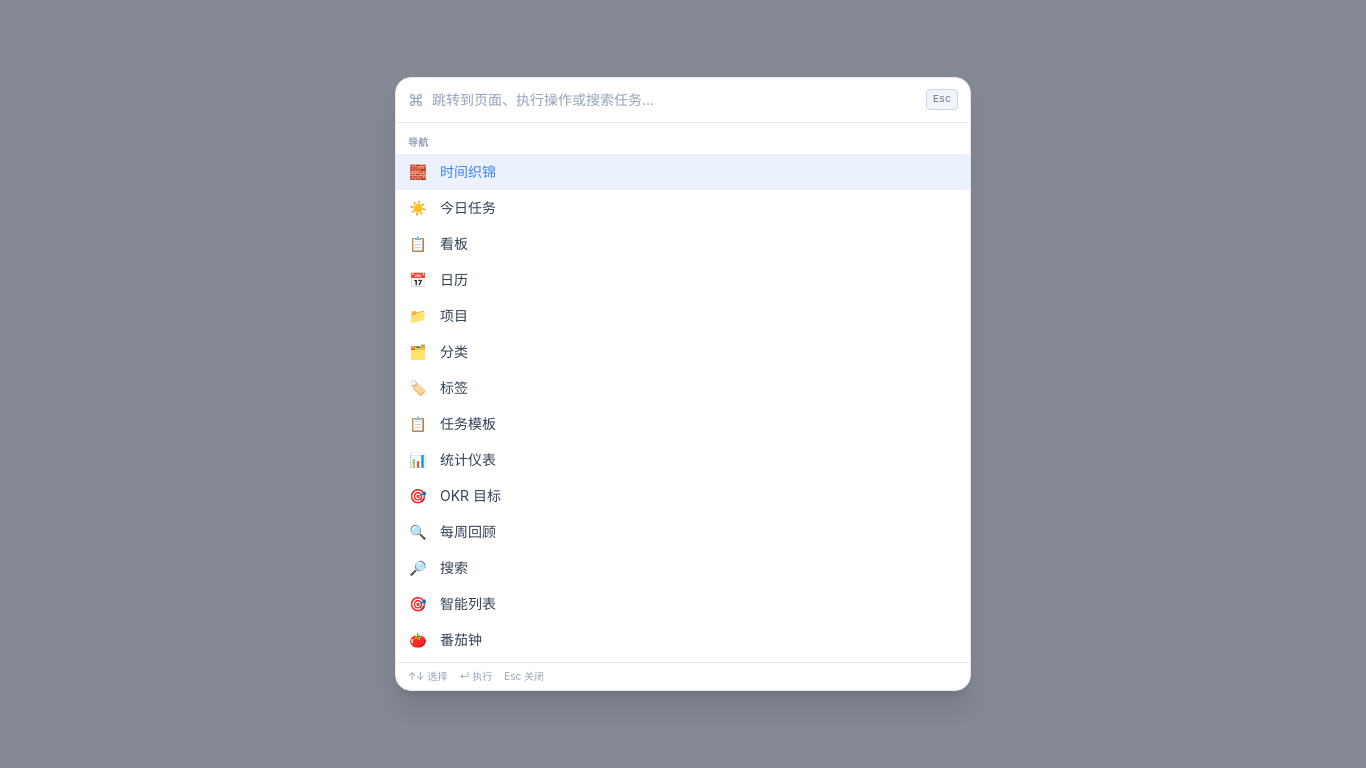
Test: CommandPalette › 关键词匹配:输入 lock 命中"锁定应用"
Type "lock" into the field named "命令搜索" at (675, 100), box [432,78,918,122]
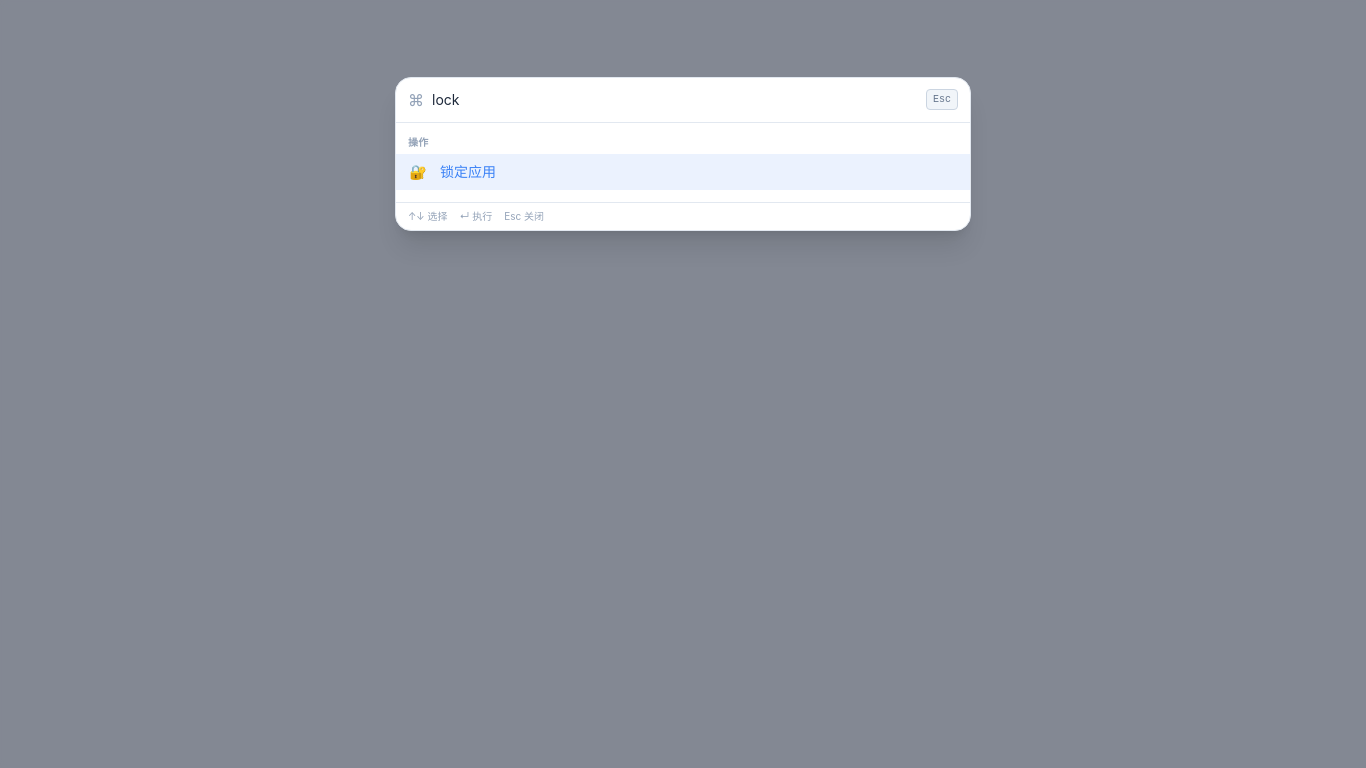
Result: the text "锁定应用" is shown at [440,163,496,180]
